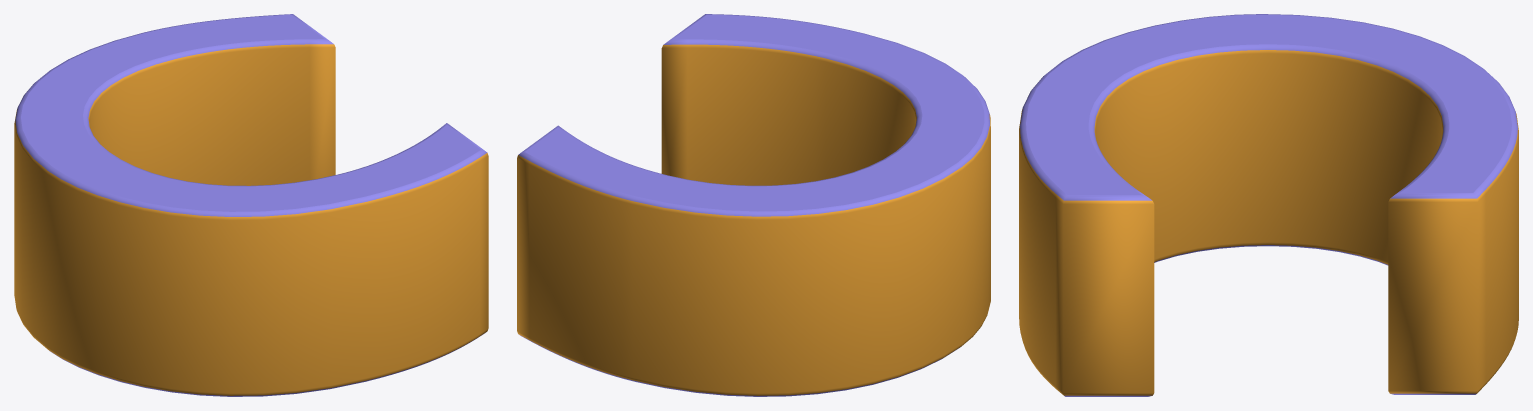
Rendered from letter_C.fbx.
3 renders of one model, left to right at view 1: azimuth 30°, elevation 25°; view 2: azimuth 150°, elevation 25°; view 3: azimuth 270°, elevation 25°, orthographic. The views are drawn at different scales.
Parts seen in each view (by area): view 1: Letter_C; view 2: Letter_C; view 3: Letter_C.
Boxes of the visible parts, x1,y1,x2,y2 form: Letter_C: (14,14,488,396); Letter_C: (517,14,990,396); Letter_C: (1019,14,1518,396).
Bounding box in the file's own units: 63.5 × 32 × 72.
